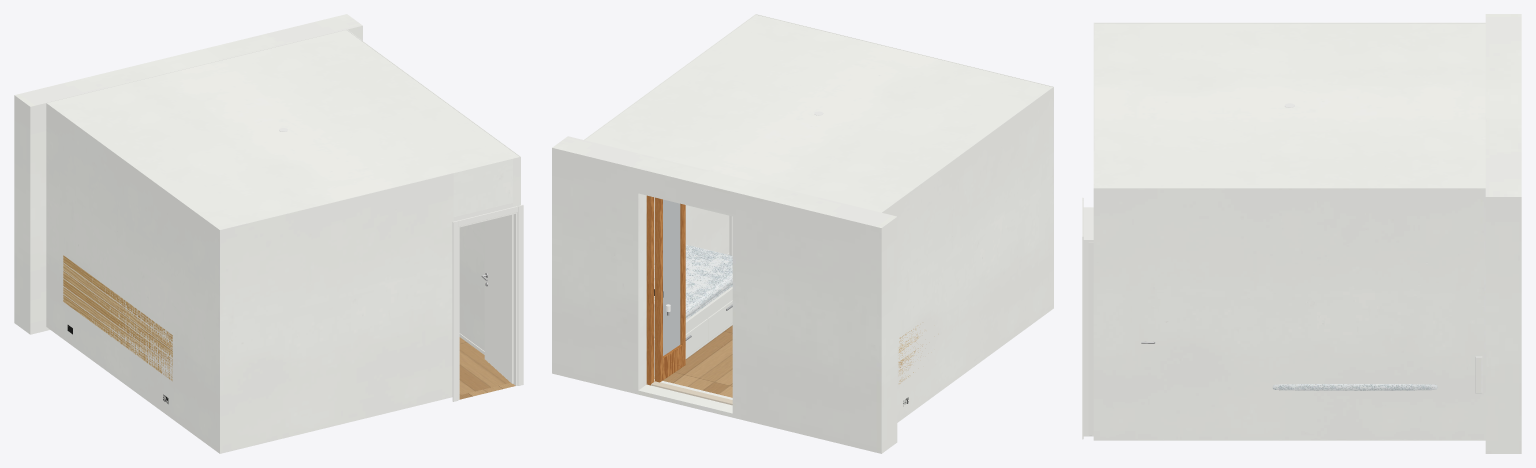
File: katia-camera.glb
The picture shows the model from 3 angles, left to right: view 1: azimuth 30°, elevation 25°; view 2: azimuth 150°, elevation 25°; view 3: azimuth 270°, elevation 25°; orthographic projection. The views are drawn at different scales.
Visible parts, largest first — view 1: Camera parete sud, Camera soffitto, Camera parete ovest, Facciata camera, Porta camera, Testiera, Camera parete est, Camera parete sud porta, Camera pavimento; view 2: Facciata camera, Camera soffitto, Camera parete ovest, Portafinestra camera, Letto.001, Camera pavimento, Portafinestra camera vetro, Camera parete est; view 3: Camera parete est, Camera soffitto, Facciata camera, Porta camera, Letto.001, Camera parete ovest.
Part boxes in pixels (x1=…): Camera parete sud: x1=220, y1=173, x2=453, y2=453; Camera soffitto: x1=47, y1=30, x2=519, y2=229; Camera parete ovest: x1=46, y1=103, x2=220, y2=453; Facciata camera: x1=14, y1=14, x2=362, y2=334; Porta camera: x1=452, y1=203, x2=523, y2=401; Testiera: x1=63, y1=255, x2=172, y2=403; Camera parete est: x1=347, y1=29, x2=520, y2=350; Camera parete sud porta: x1=453, y1=158, x2=512, y2=216; Camera pavimento: x1=459, y1=337, x2=510, y2=394; Facciata camera: x1=552, y1=136, x2=897, y2=453; Camera soffitto: x1=585, y1=14, x2=1052, y2=212; Camera parete ovest: x1=881, y1=86, x2=1053, y2=422; Portafinestra camera: x1=646, y1=195, x2=732, y2=405; Letto.001: x1=654, y1=244, x2=732, y2=375; Camera pavimento: x1=654, y1=325, x2=732, y2=397; Portafinestra camera vetro: x1=663, y1=199, x2=680, y2=355; Camera parete est: x1=584, y1=14, x2=755, y2=259; Camera parete est: x1=1093, y1=188, x2=1485, y2=440; Camera soffitto: x1=1094, y1=23, x2=1485, y2=187; Facciata camera: x1=1485, y1=14, x2=1521, y2=453; Porta camera: x1=1082, y1=197, x2=1093, y2=439; Letto.001: x1=1272, y1=384, x2=1437, y2=390; Camera parete ovest: x1=1094, y1=22, x2=1485, y2=23.
Bounding box in the file's own units: 4.2 × 2.75 × 4.26.
Materials: 33 (25 with a texture image).
